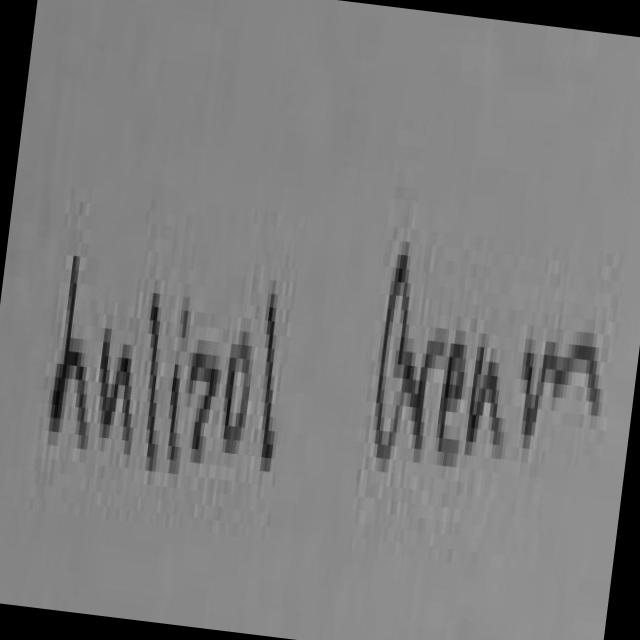C: (351, 197, 431, 518)
L: (28, 165, 120, 514)
a: (456, 300, 516, 498)
e: (425, 309, 479, 491)
i: (149, 252, 207, 494)
l: (238, 246, 304, 506), (121, 253, 186, 492)
m: (502, 288, 618, 512)
o: (210, 294, 266, 495)
r: (394, 292, 454, 488)
u: (80, 285, 153, 497)
z: (172, 293, 232, 512)
